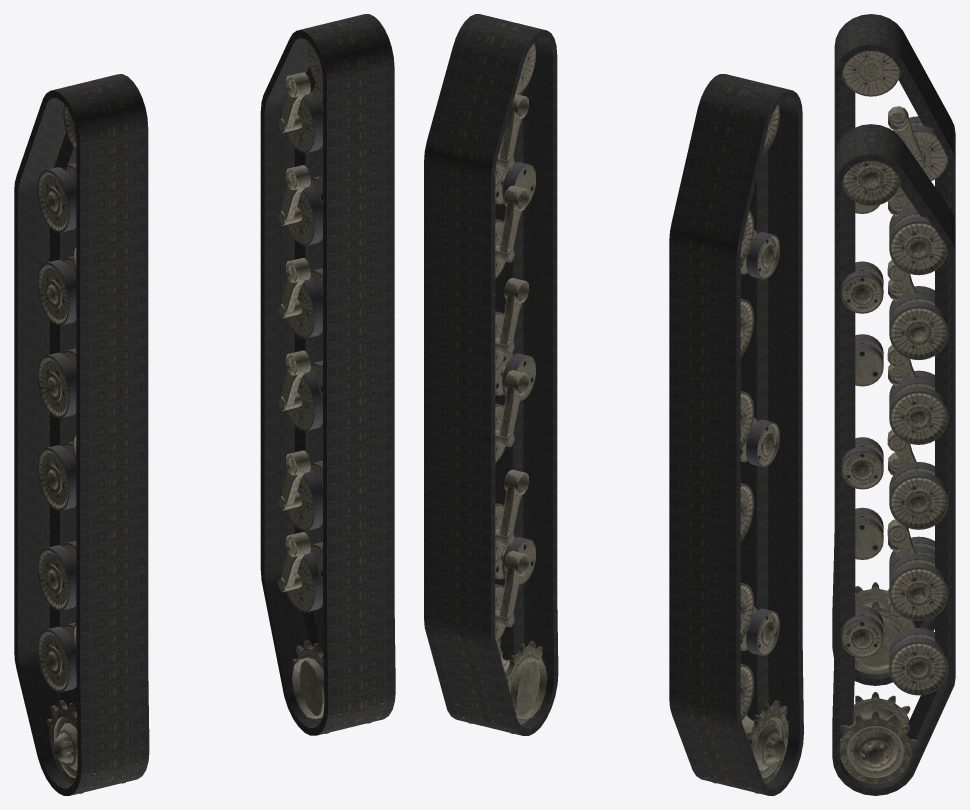
The model's file is Chassis.glb.
3 renders of one model, left to right at view 1: azimuth 30°, elevation 25°; view 2: azimuth 150°, elevation 25°; view 3: azimuth 270°, elevation 25°, orthographic. The views are drawn at different scales.
Parts seen in each view (by area): view 1: set_1_group_0, set_0_group_0, set_3_group_0, set_2_group_0; view 2: set_1_group_0, set_0_group_0, set_3_group_0, set_2_group_0; view 3: set_3_group_0, set_0_group_0, set_2_group_0, set_1_group_0.
Boxes of the visible parts, box(x1,y1,x2,y2) form: set_1_group_0: box(14, 74, 149, 795); set_0_group_0: box(260, 14, 395, 735); set_3_group_0: box(277, 43, 383, 733); set_2_group_0: box(37, 104, 138, 793); set_1_group_0: box(669, 74, 803, 795); set_0_group_0: box(424, 14, 558, 735); set_3_group_0: box(456, 43, 547, 733); set_2_group_0: box(704, 104, 788, 793); set_3_group_0: box(839, 161, 948, 784); set_0_group_0: box(832, 124, 955, 795); set_2_group_0: box(842, 51, 947, 674); set_1_group_0: box(832, 14, 955, 685).
Bounding box in the file's own units: 3.13 × 6.59 × 1.15.
4 materials, 4 textured.
